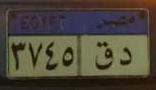3: (10, 39, 25, 72)
4: (44, 40, 57, 72)
5: (60, 44, 76, 69)
7: (26, 40, 43, 71)
daal: (118, 46, 134, 67)
qaaf: (94, 40, 114, 70)
